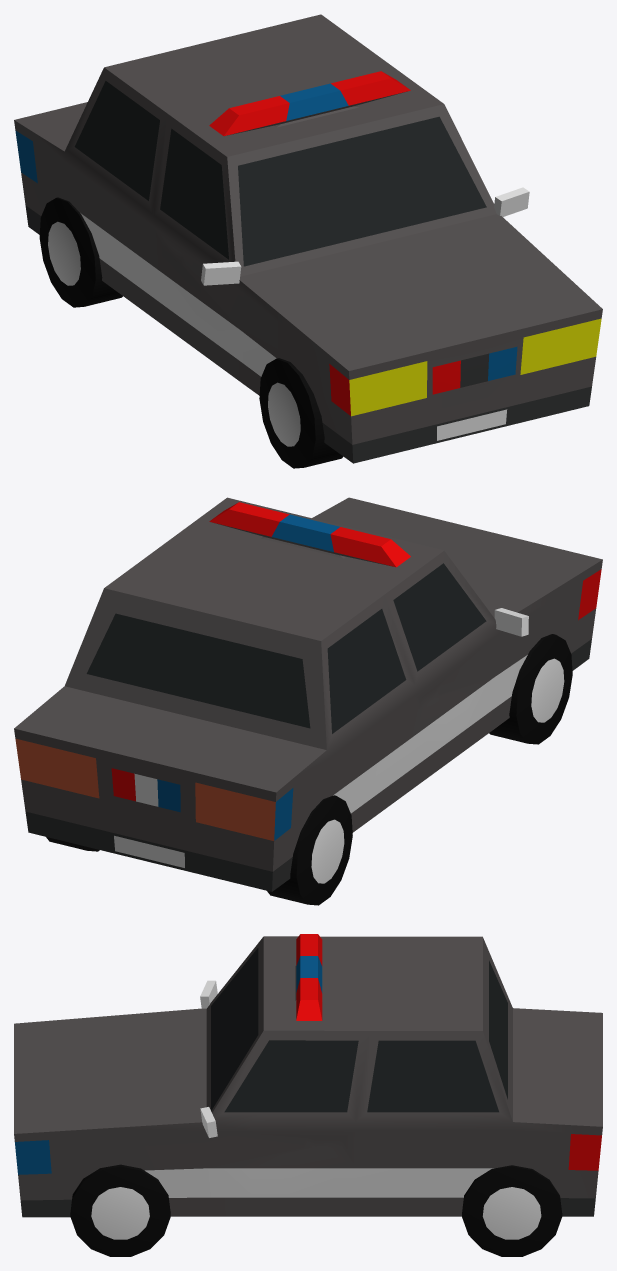
The model's file is PoliceCar.fbx.
3 renders of one model, top to bottom at view 1: azimuth 30°, elevation 25°; view 2: azimuth 150°, elevation 25°; view 3: azimuth 270°, elevation 25°, orthographic. The views are drawn at different scales.
Parts seen in each view (by area): view 1: Body3, WheelRL4, WheelRL2, pCube3, pCube2; view 2: Body3, WheelRL4, WheelRL2, pCube3; view 3: Body3, WheelRL3, WheelRL1.
Part boxes in pixels (x1,y1,x2,y2): Body3: (14,14,602,463); WheelRL4: (259,358,343,468); WheelRL2: (39,197,122,307); pCube3: (201,261,241,285); pCube2: (494,187,529,216); Body3: (14,497,602,891); WheelRL4: (489,634,572,744); WheelRL2: (267,795,352,905); pCube3: (494,608,528,636); Body3: (14,934,602,1217); WheelRL3: (70,1164,170,1256); WheelRL1: (462,1165,562,1256).
Size of the model in its own units: 3.38 by 2.61 by 5.97.
